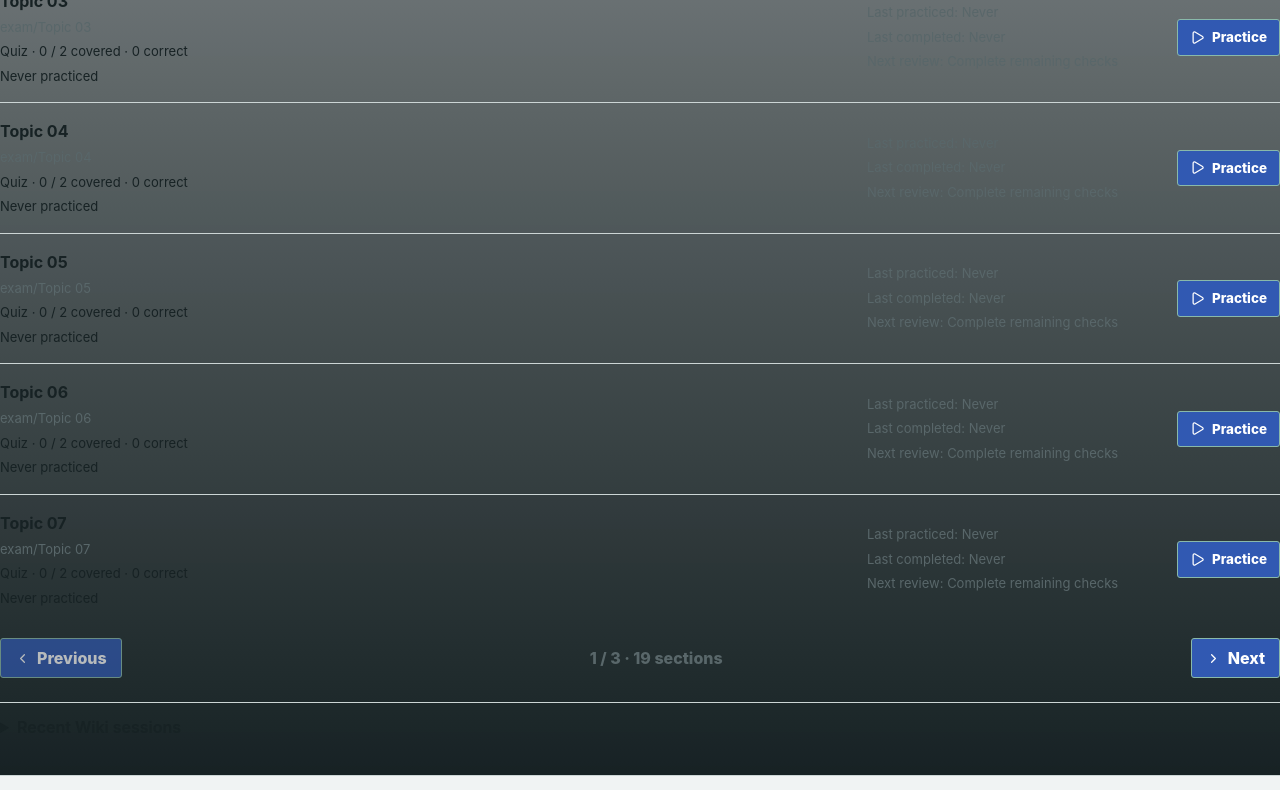
Scenario: paginates large inventories and resets pagination when searching or changing filters
The image size is (1280, 790).
(page scrolled)
Click the button "Next": point(1235, 658) [1191,638,1279,678]
(page scrolled)
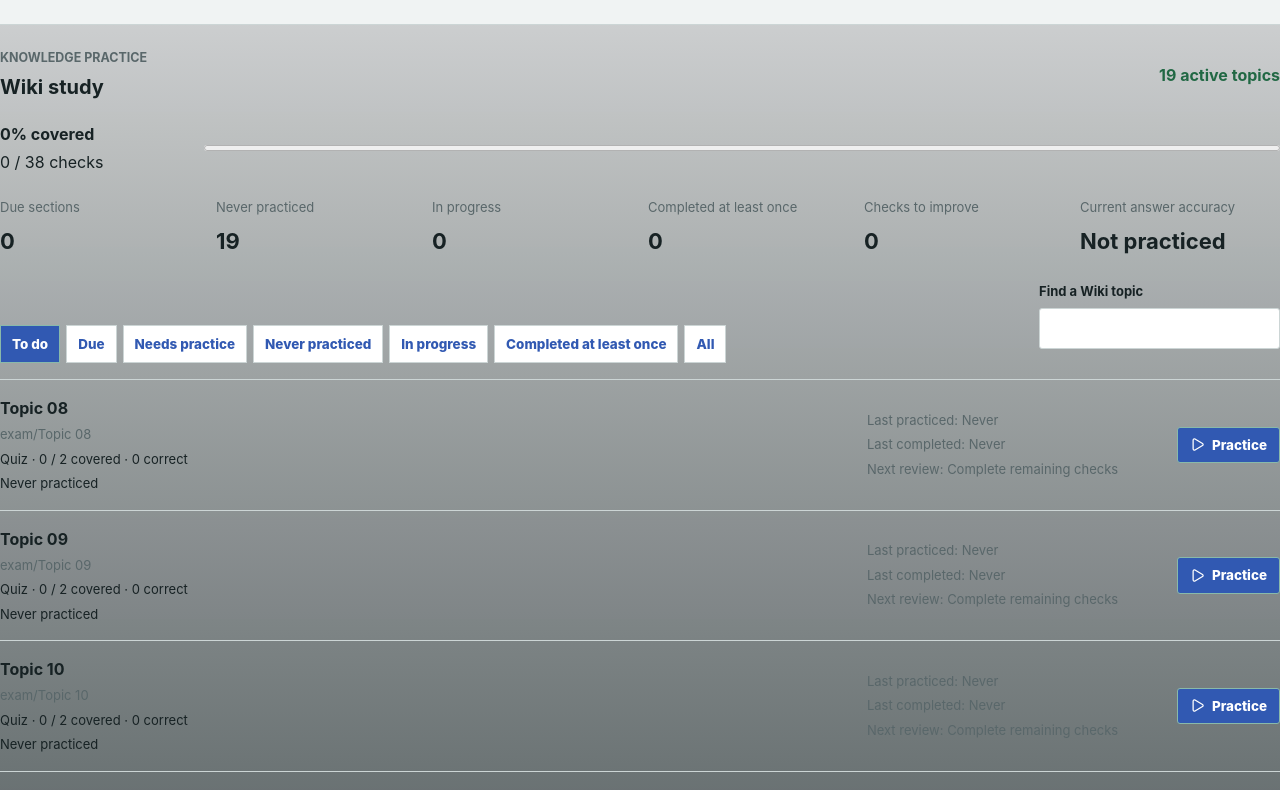
Now the text "Topic 08" is shown, box [0,398,68,418]
In the search field labelled "Find a Wiki topic": point(1160, 328) [1039,308,1279,349], type "Topic 18"
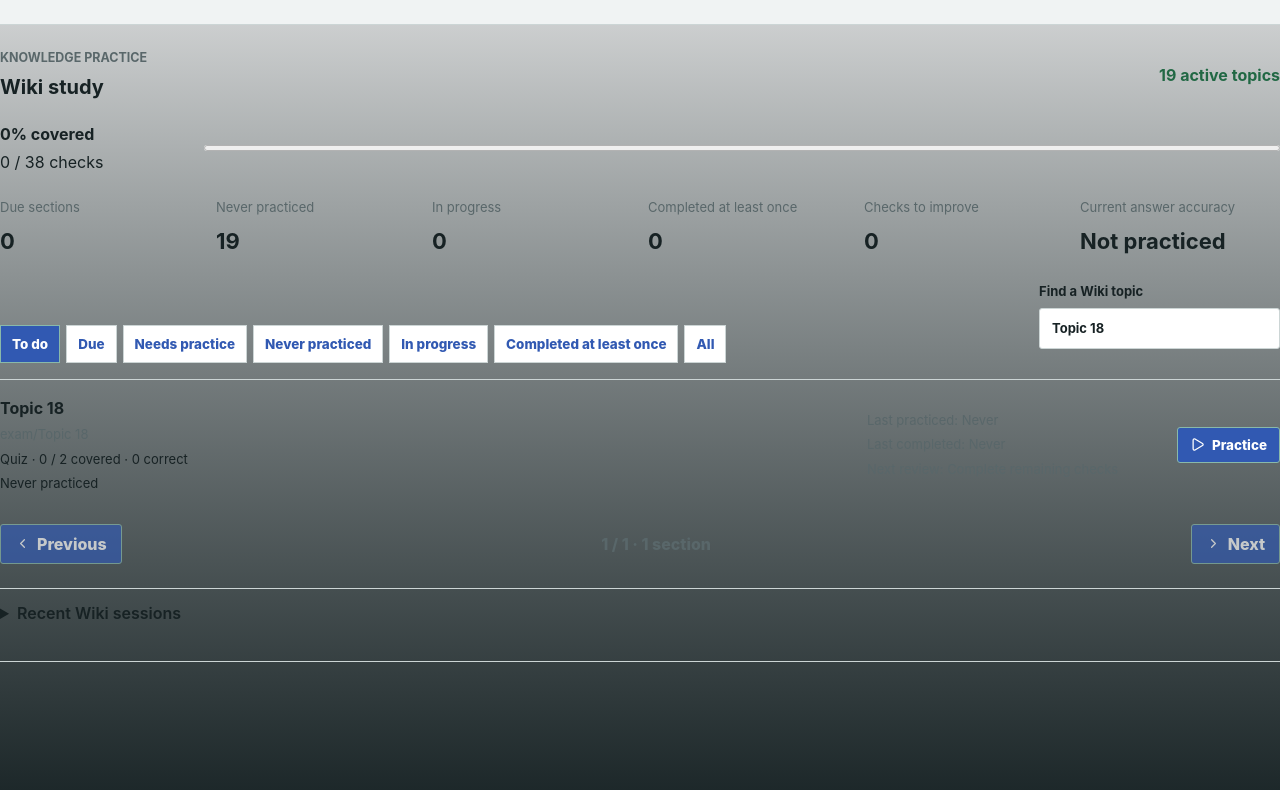
Now the text "Topic 18" is shown, box [0,398,64,418]
Now the button "Next" is disabled, box [1191,524,1279,564]
